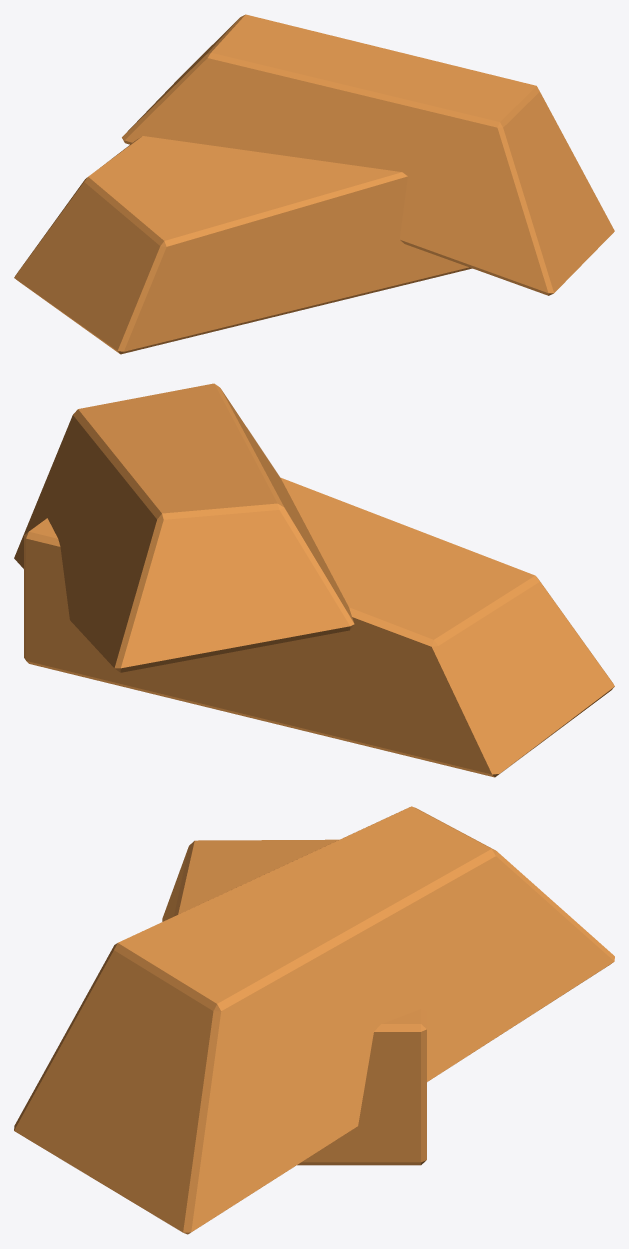
Rendered from tallow.glb.
The picture shows the model from 3 angles, top to bottom: view 1: azimuth 30°, elevation 25°; view 2: azimuth 150°, elevation 25°; view 3: azimuth 270°, elevation 25°; orthographic projection. The views are drawn at different scales.
Parts seen in each view (by area): view 1: Tallow; view 2: Tallow; view 3: Tallow.
Part boxes in pixels (bbox=[...]): Tallow: bbox=[14, 14, 614, 354]; Tallow: bbox=[14, 383, 614, 777]; Tallow: bbox=[14, 806, 614, 1234].
Size of the model in its own units: 0.1677 by 0.0605 by 0.1377.
